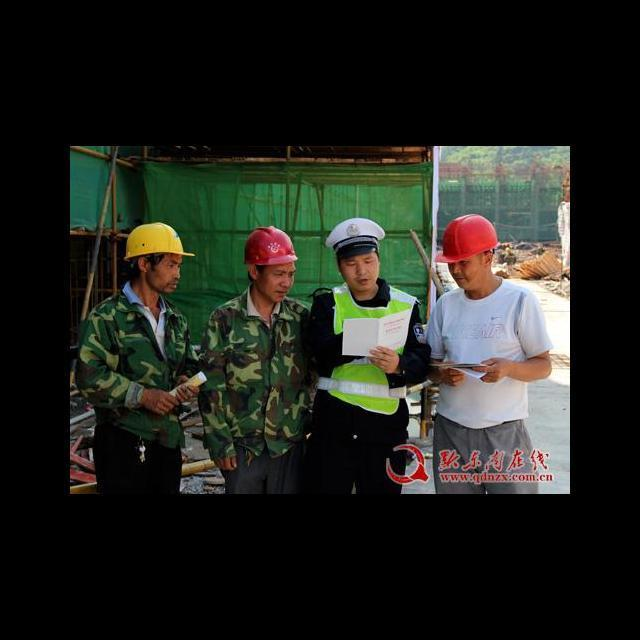helmet: (430, 208, 504, 269), (119, 219, 195, 269), (237, 218, 302, 272), (318, 209, 389, 255)
